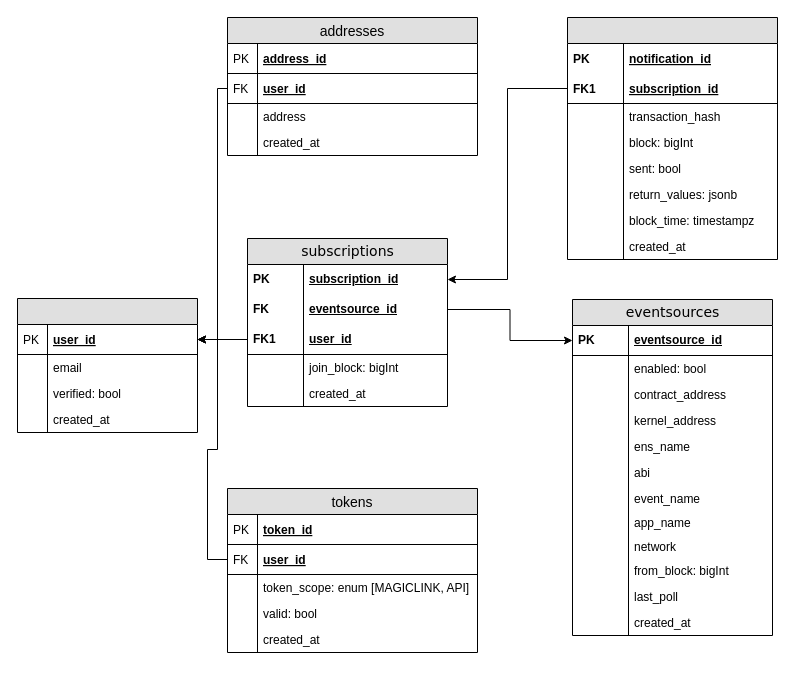
The diagram is 795 pixels wide and 673 high, and some of its shapes have lost their labels. The shapes that lost their labels are listed below. From the top down, each one's box as (x1, y1, x2, y2) in pixels, then its label:
(566, 16, 778, 260): notifications
(16, 298, 198, 432): users
